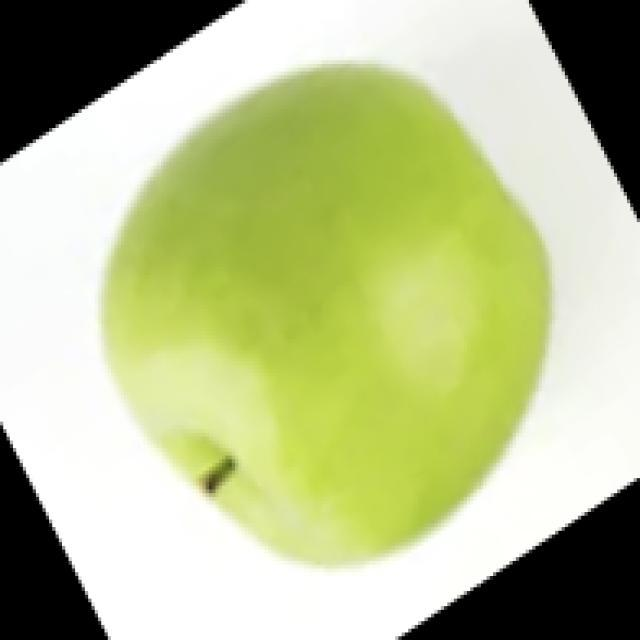Apple: (98, 58, 553, 568)
